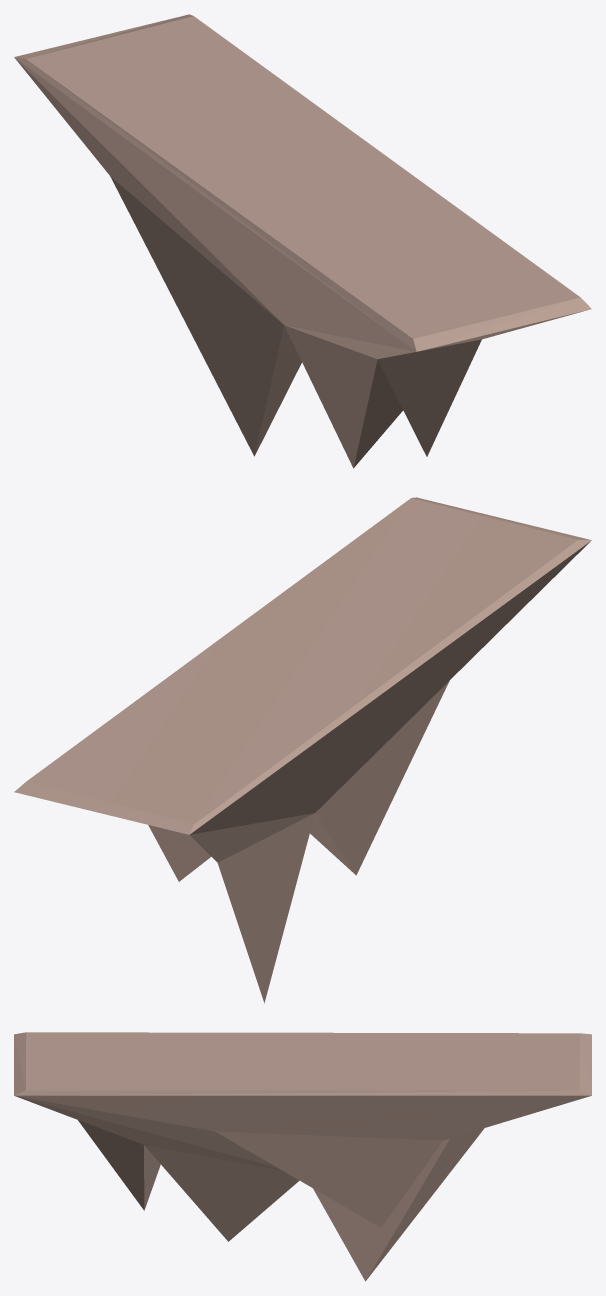
The picture shows the model from 3 angles, top to bottom: view 1: azimuth 30°, elevation 25°; view 2: azimuth 150°, elevation 25°; view 3: azimuth 270°, elevation 25°; orthographic projection. The views are drawn at different scales.
Parts seen in each view (by area): view 1: Land; view 2: Land; view 3: Land.
Part boxes in pixels (box(x1,y1,x2,y2)): Land: box(14, 14, 591, 468); Land: box(14, 497, 591, 1003); Land: box(14, 1032, 591, 1281).
Size of the model in its own units: 109 by 185 by 435.
